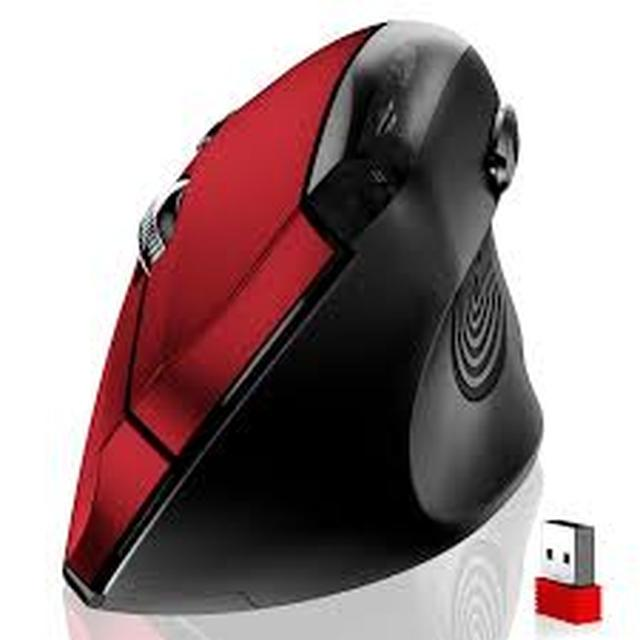mouse: (37, 1, 547, 590), (60, 18, 546, 623)
